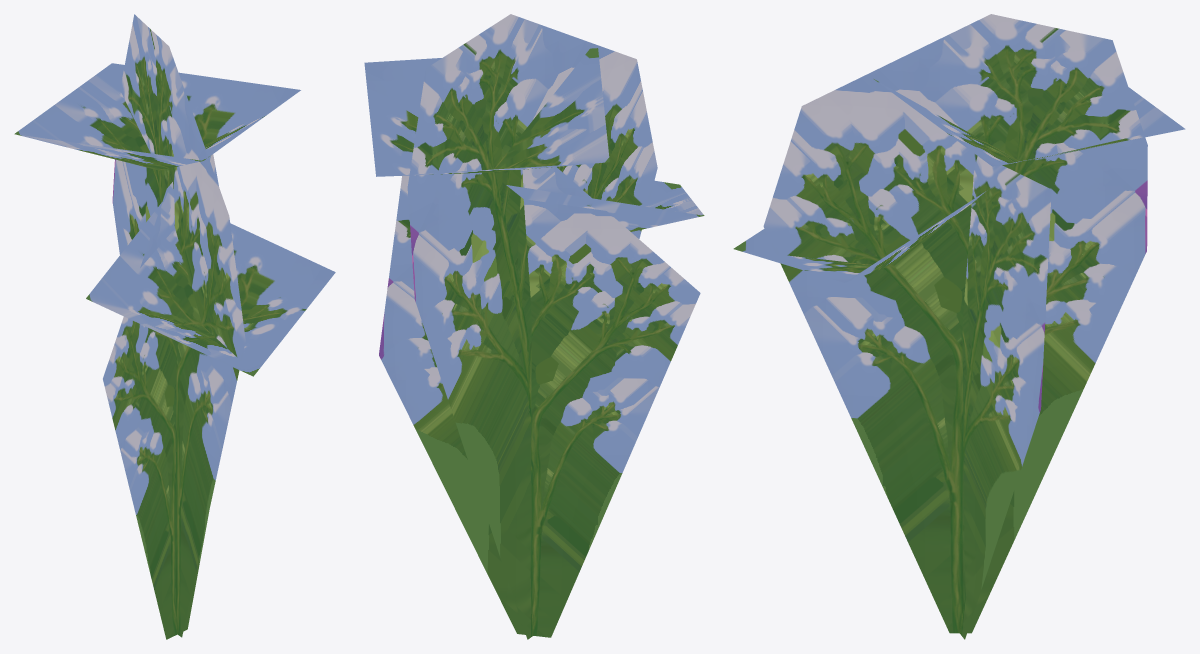
The model's file is SM_Flower_09_01.fbx.
3 views of the same model, side by side, from view 1: azimuth 30°, elevation 25°; view 2: azimuth 150°, elevation 25°; view 3: azimuth 270°, elevation 25° (orthographic). The views are drawn at different scales.
Visible parts, largest first — view 1: SM_Flower_09_01_LOD0; view 2: SM_Flower_09_01_LOD0; view 3: SM_Flower_09_01_LOD0.
Boxes of the visible parts, box(x1,y1,x2,y2) form: SM_Flower_09_01_LOD0: box(14, 14, 335, 639); SM_Flower_09_01_LOD0: box(364, 14, 704, 639); SM_Flower_09_01_LOD0: box(733, 14, 1185, 639).
Size of what is drawn, in the model's own units: 45.2 by 94.68 by 62.32.
